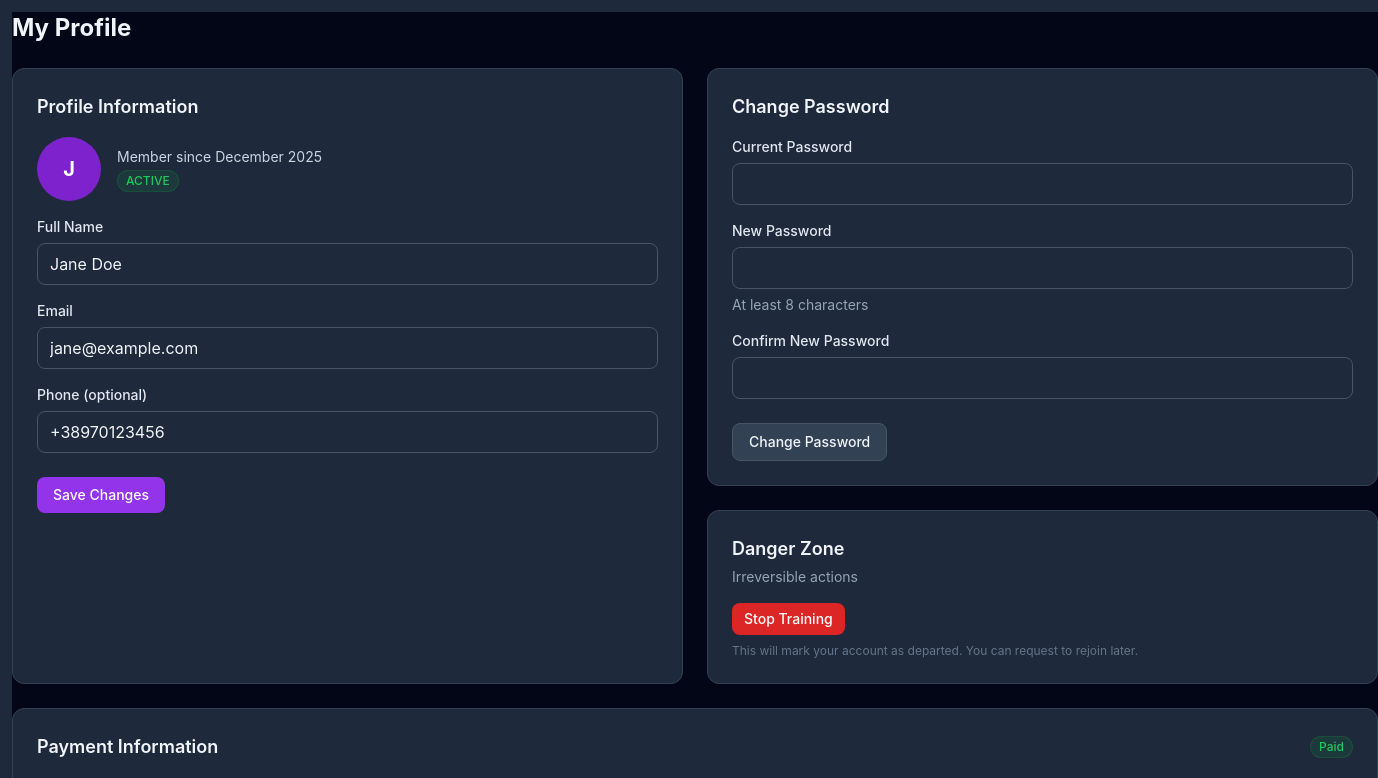
ProfileClient › profile form interactions › shows validation error for invalid email format
The width and height of the screenshot is (1378, 778).
Replace the text in the field labelled "Email" with "user@localhost": (348,348) x1=37 y1=327 x2=658 y2=369
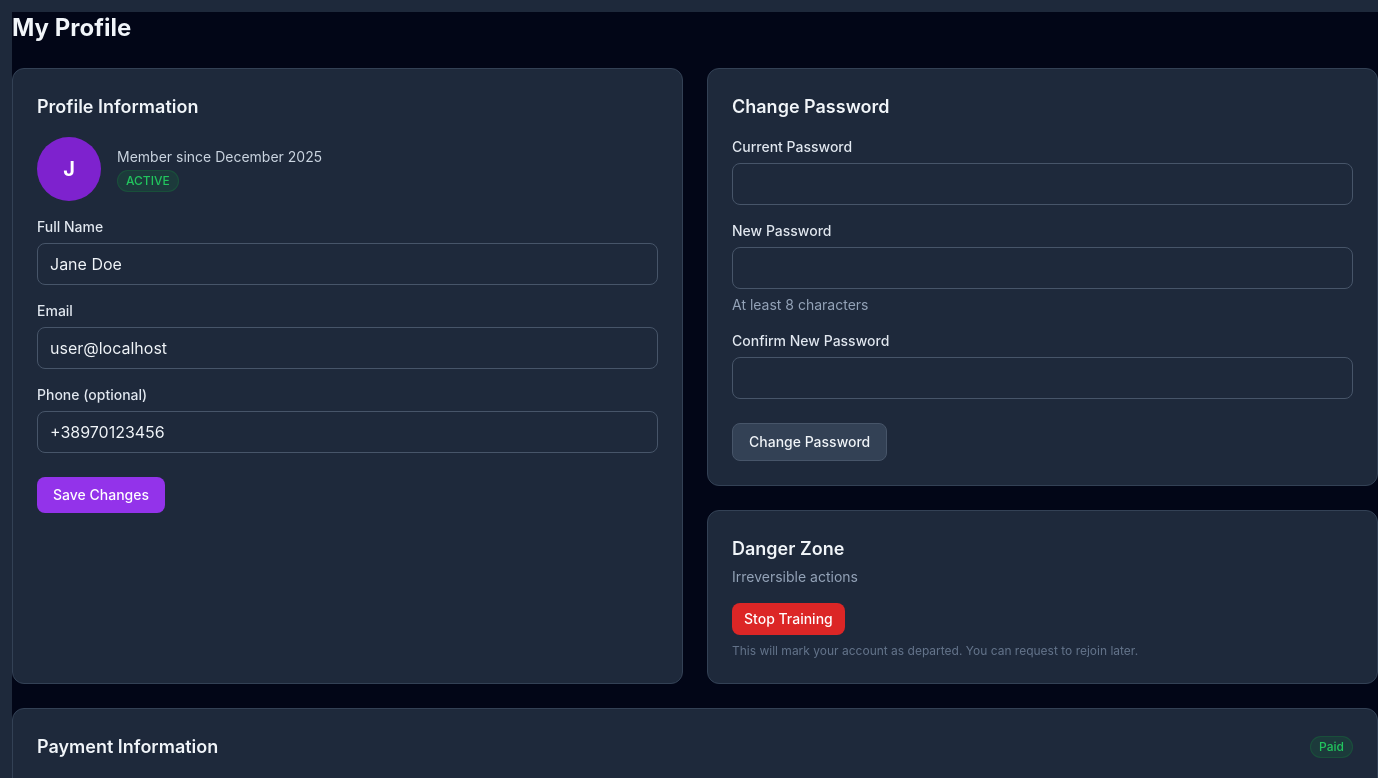
Click the button "Save Changes": (101,495) x1=37 y1=477 x2=165 y2=513
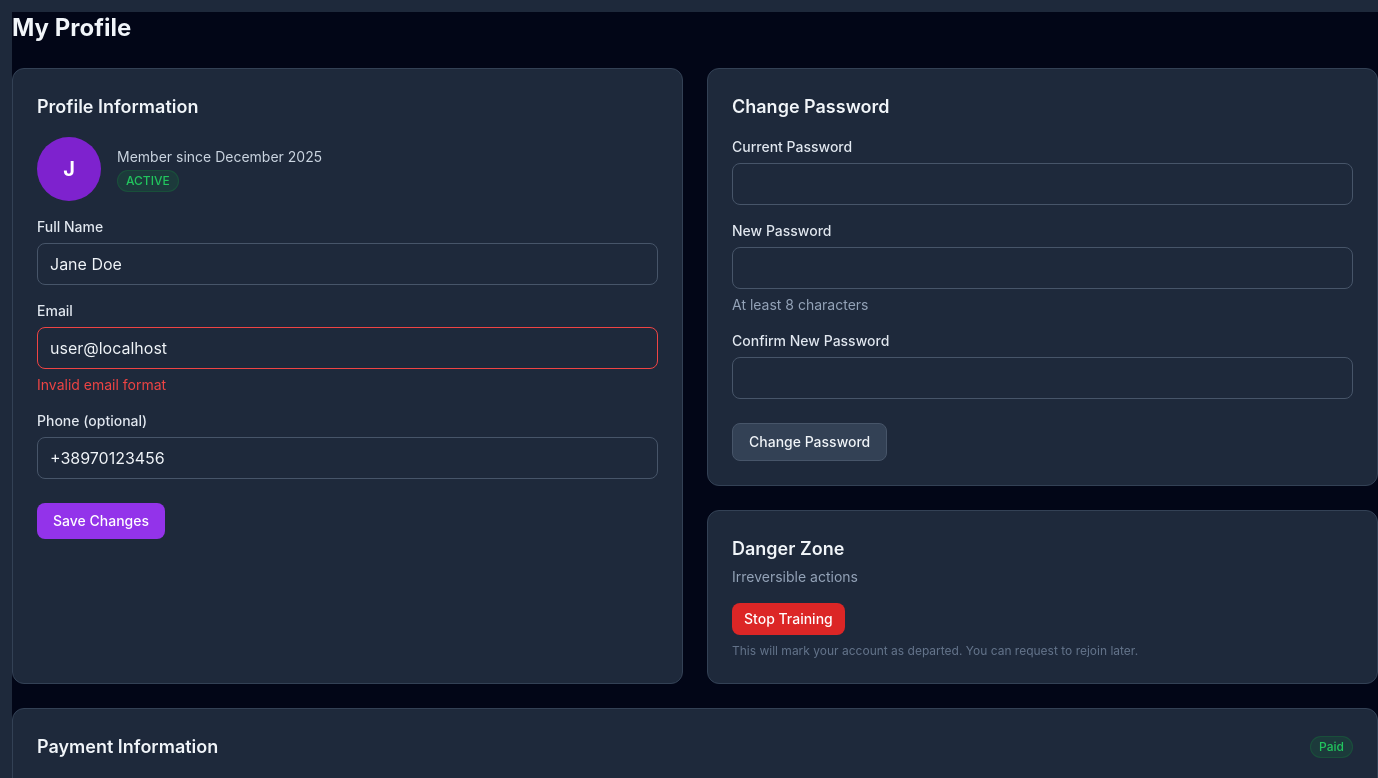
Expected: the text "Invalid email format" is shown, x1=37 y1=376 x2=166 y2=393
